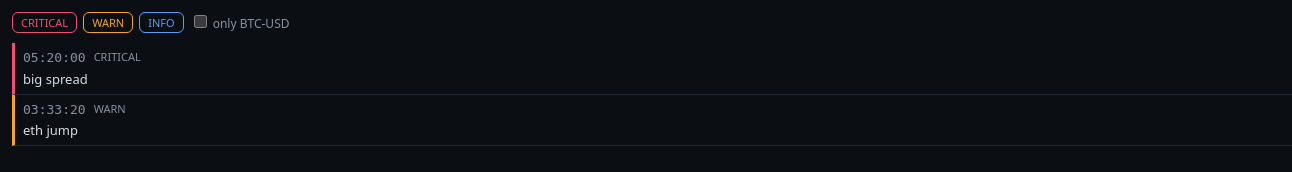
Test: AlertFeed › filters by severity and symbol
The width and height of the screenshot is (1292, 172).
Expected: the text "big spread" is shown, [23,70,88,88]
Expected: the text "eth jump" is shown, [23,121,78,139]
Click the button "WARN". click: (108, 23)
box: [83,12,133,33]
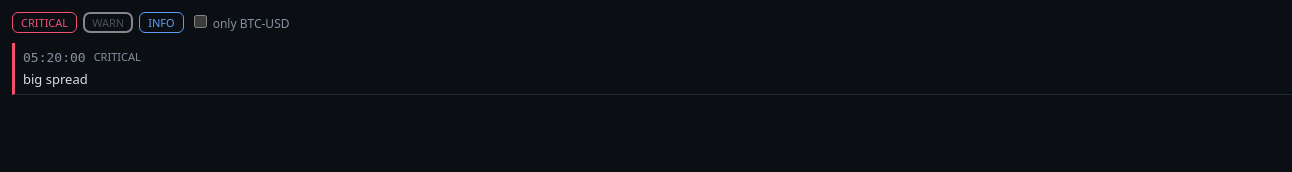
Result: the text "eth jump" is gone
Click the button "WARN". click: (108, 23)
box: [83,12,133,33]
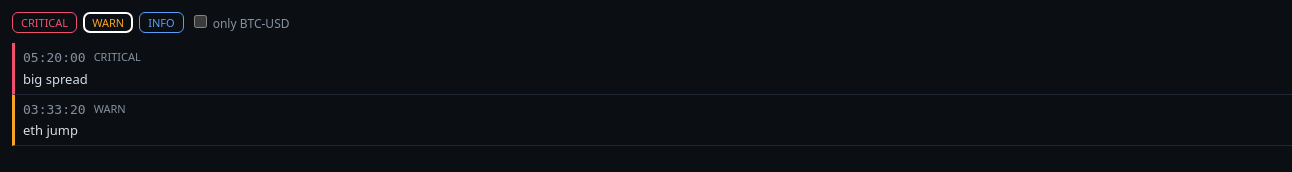
Click the checkbox. click: (200, 22)
box: [194,15,206,28]
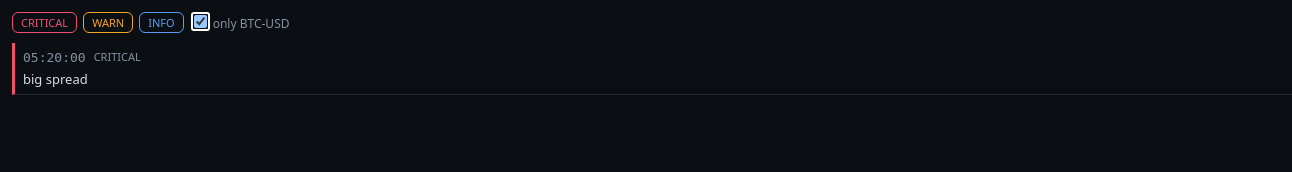
Expected: the text "big spread" is shown, [23,70,88,88]
Result: the text "eth jump" is gone
